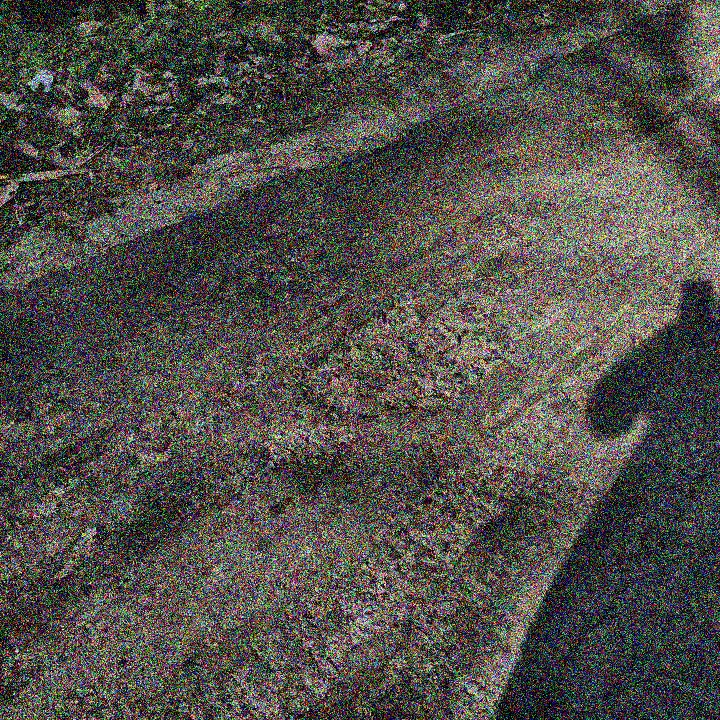pothole: (288, 296, 498, 422), (261, 419, 359, 477)
